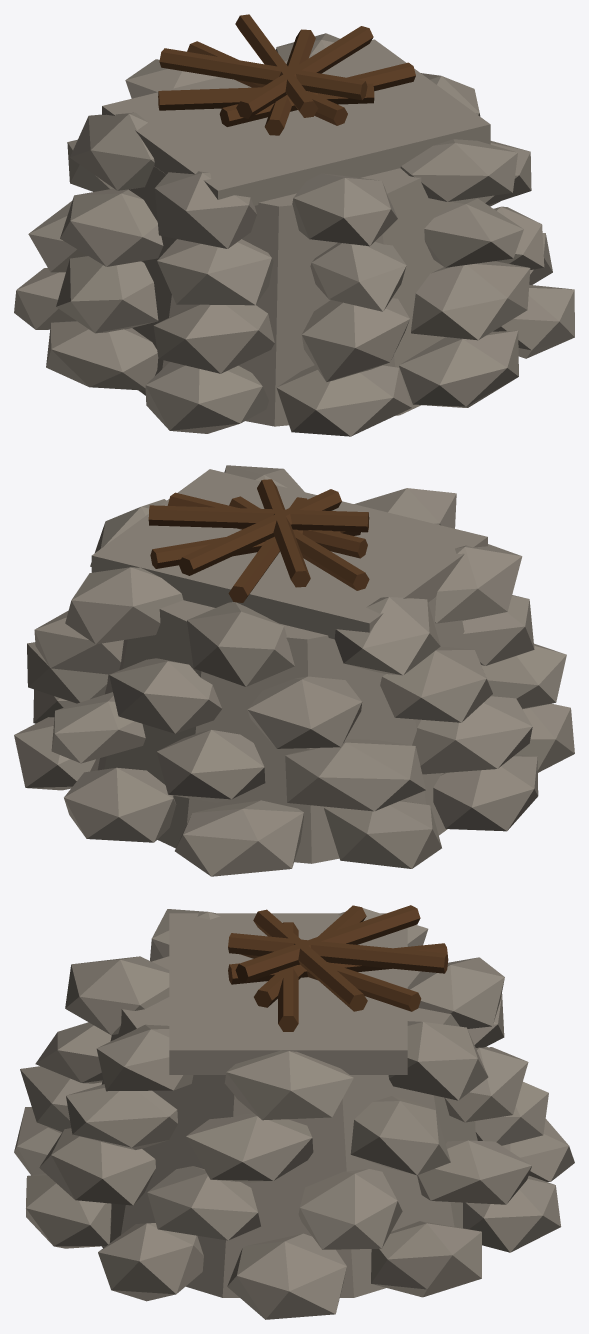
The model's file is altar.glb.
3 views of the same model, one above another, from view 1: azimuth 30°, elevation 25°; view 2: azimuth 150°, elevation 25°; view 3: azimuth 270°, elevation 25° (orthographic). The views are drawn at different scales.
Parts seen in each view (by area): view 1: altar.001, altar_wood; view 2: altar.001, altar_wood; view 3: altar.001, altar_wood.
Part boxes in pixels (x1,y1,x2,y2): altar.001: [14, 33, 574, 436]; altar_wood: [158, 14, 415, 135]; altar.001: [14, 465, 574, 876]; altar_wood: [148, 479, 369, 602]; altar.001: [14, 908, 574, 1319]; altar_wood: [228, 905, 448, 1031].
Size of the model in its own units: 3.43 by 1.8 by 3.3.
